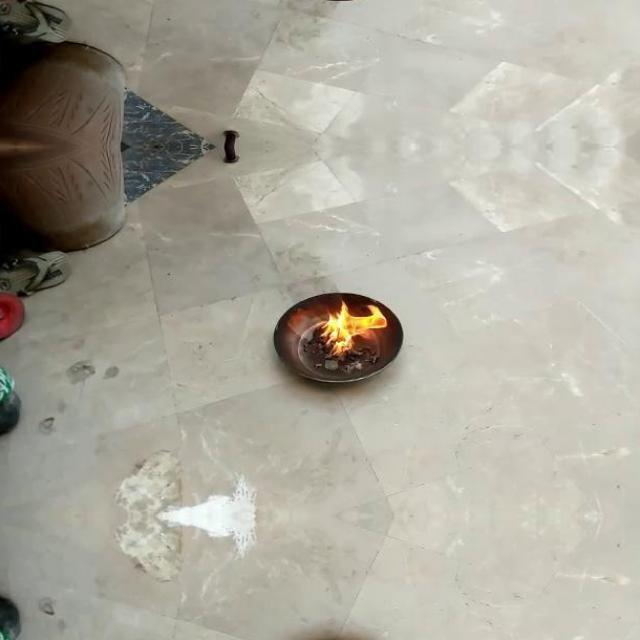smoke: (311, 302, 392, 357)
